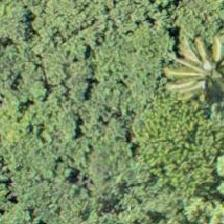coconut_tree: (176, 27, 223, 117)
